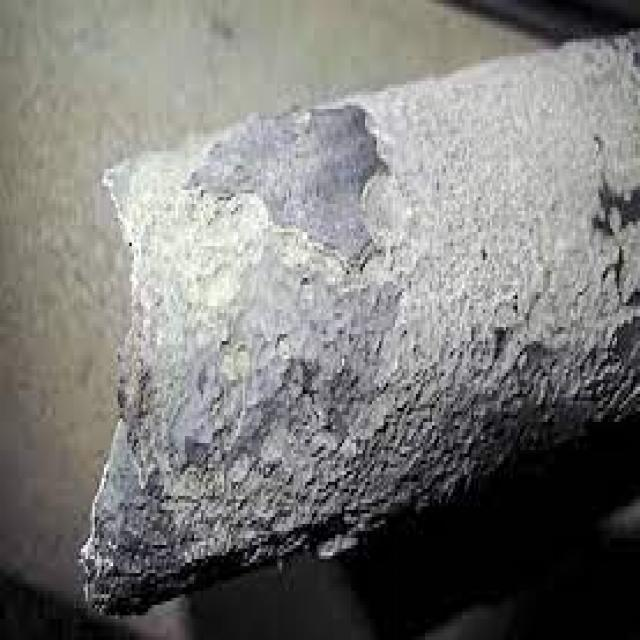crack: (110, 92, 600, 570)
